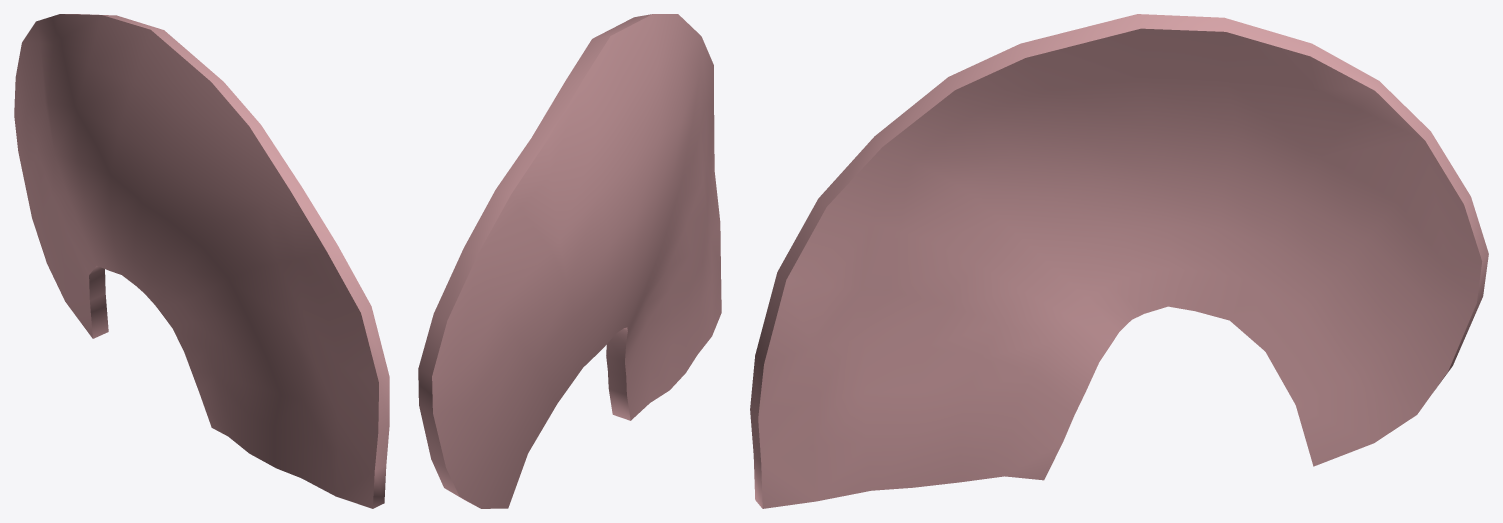
3 views of the same model, side by side, from view 1: azimuth 30°, elevation 25°; view 2: azimuth 150°, elevation 25°; view 3: azimuth 270°, elevation 25° (orthographic). The views are drawn at different scales.
Parts seen in each view (by area): view 1: ZA_816be3907196b258; view 2: ZA_816be3907196b258; view 3: ZA_816be3907196b258.
Part boxes in pixels (x1=…): ZA_816be3907196b258: x1=14, y1=14, x2=389, y2=508; ZA_816be3907196b258: x1=418, y1=14, x2=721, y2=508; ZA_816be3907196b258: x1=750, y1=14, x2=1488, y2=508.
Size of the model in its own units: 0.0226 by 0.0686 by 0.1019.
